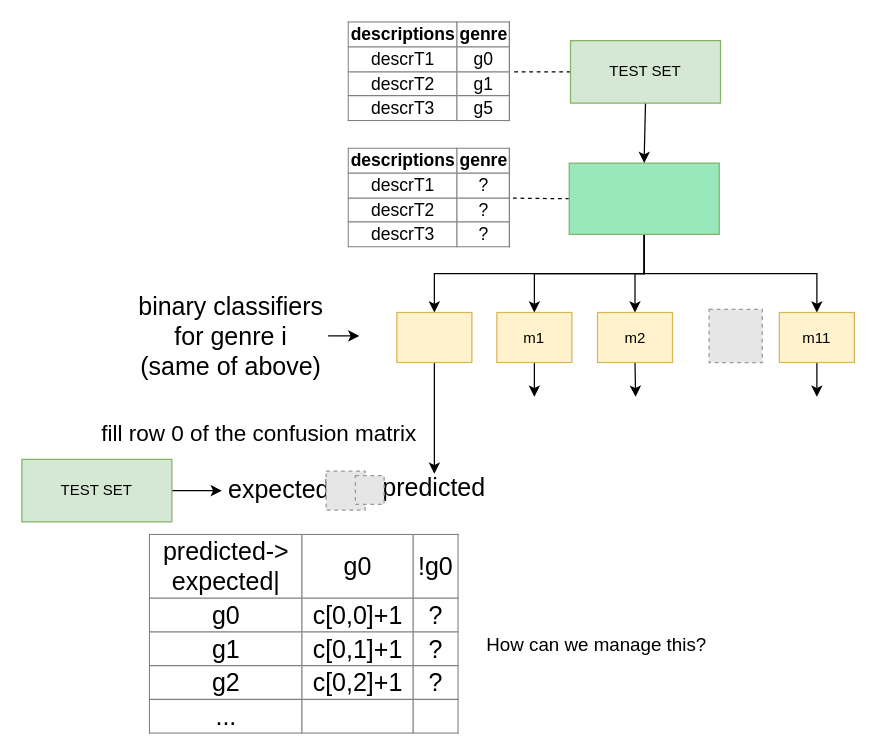
This 876x755 diagram has some shape labels left out. Grey dashed boxes stand in for pictures. Here are the shapes that lost their labels. From the top down, the centre of each, then its label:
[643,198]: TEST SET UNLABELED
[434,336]: m0
